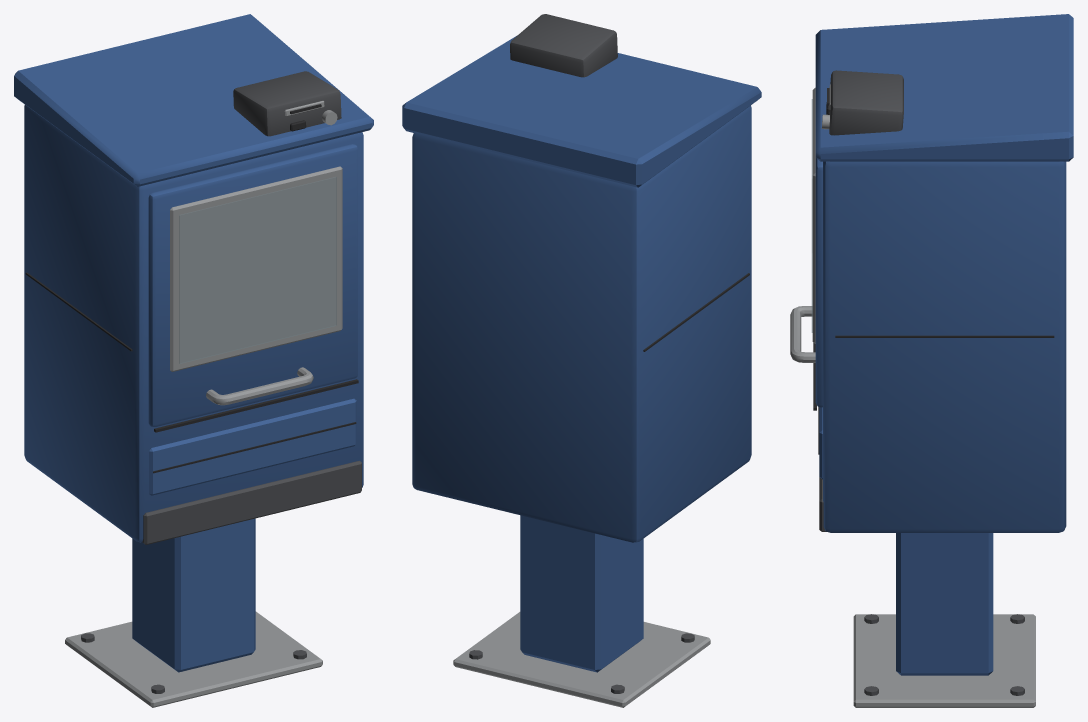
File: NewspaperBox.fbx
3 renders of one model, left to right at view 1: azimuth 30°, elevation 25°; view 2: azimuth 150°, elevation 25°; view 3: azimuth 270°, elevation 25°, orthographic. The views are drawn at different scales.
Parts seen in each view (by area): view 1: NewspaperBox_Mesh; view 2: NewspaperBox_Mesh; view 3: NewspaperBox_Mesh.
Boxes of the visible parts, x1,y1,x2,y2 form: NewspaperBox_Mesh: (14,14,373,707); NewspaperBox_Mesh: (402,14,761,707); NewspaperBox_Mesh: (790,14,1073,707).
Bounding box in the file's own units: 0.474 × 1.1 × 0.466.
